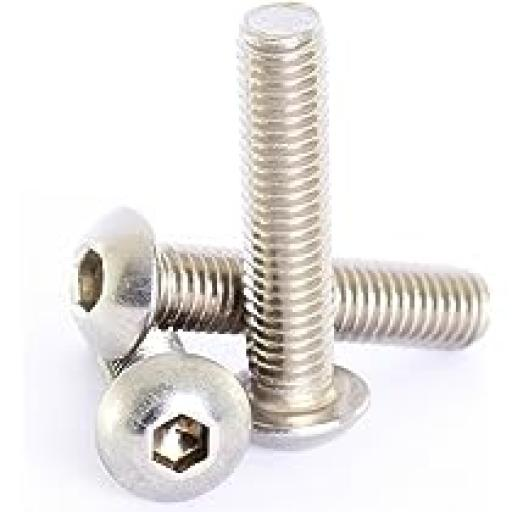Hex-Allen: (99, 352, 252, 504)
